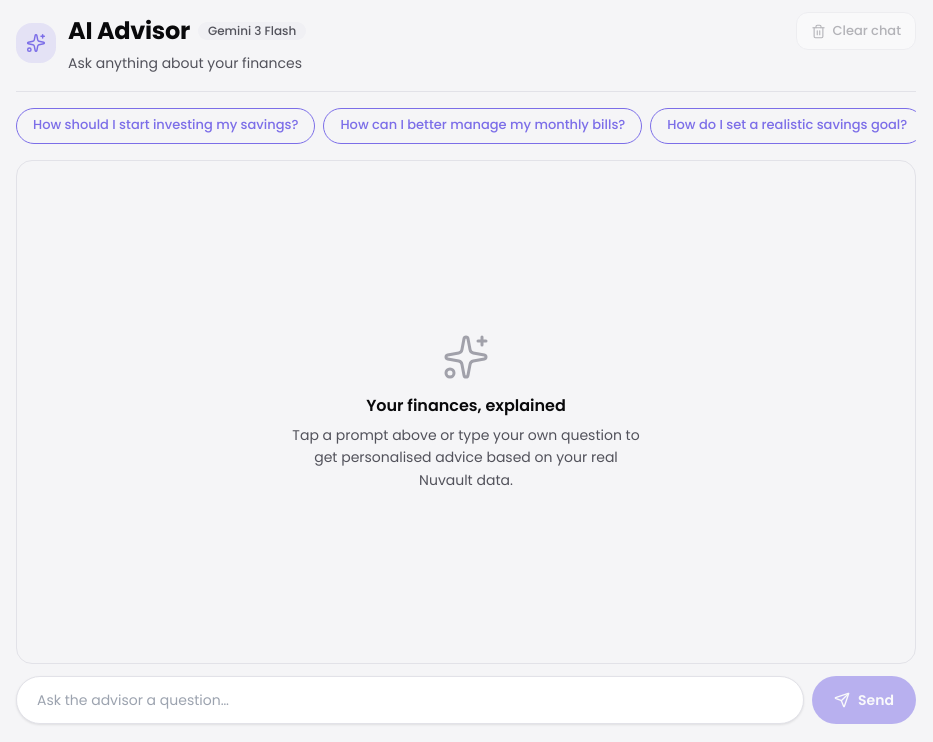
AiChat › posts the message to /ai/chat and renders the reply
This screenshot has width=933, height=742.
Type "How am I doing?" into the field with placeholder "Ask the advisor a question…" at (410,700), box [16,676,804,724]
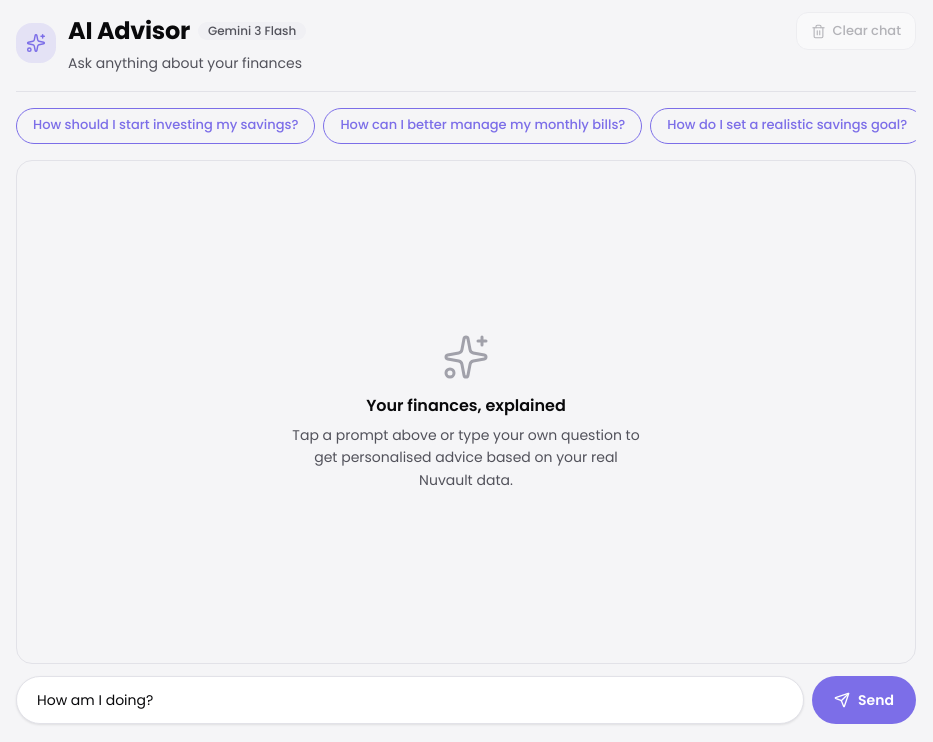
Click the button "Send" at (864,700), box [812,676,916,724]
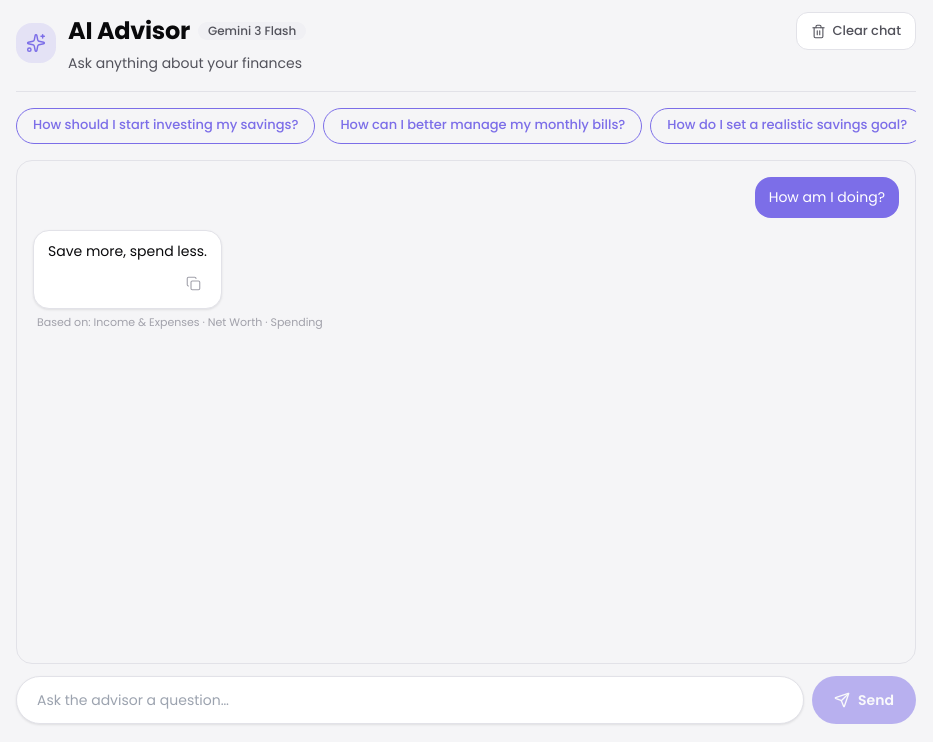
Now the text "Save more, spend less." is shown, box [33,230,222,309]
Now the text "How am I doing?" is shown, box [755,177,899,218]
